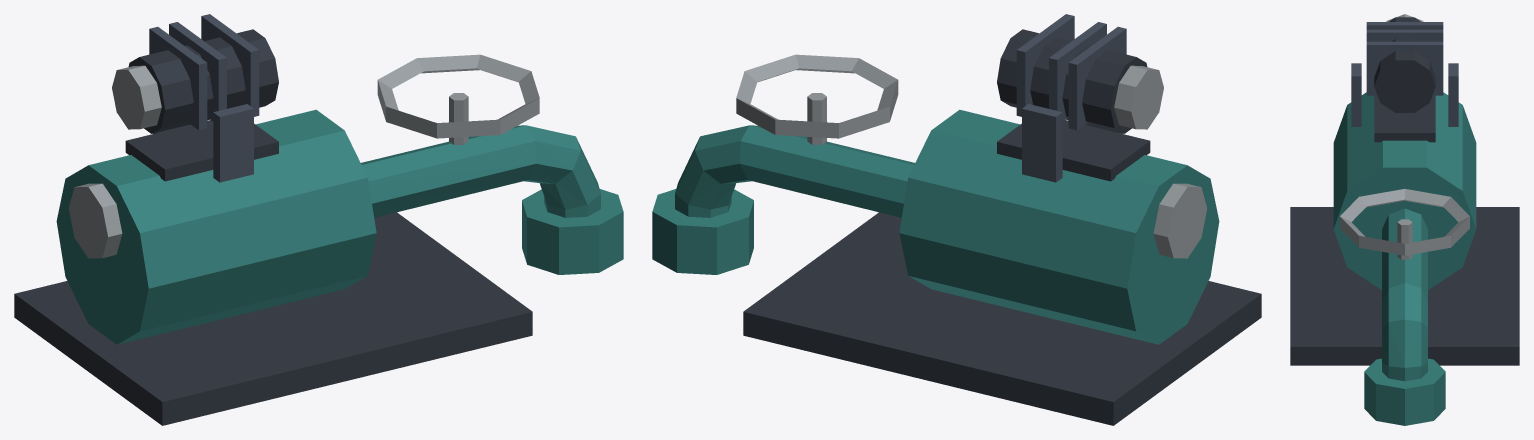
The model's file is offshore_pump.obj.
3 renders of one model, left to right at view 1: azimuth 30°, elevation 25°; view 2: azimuth 150°, elevation 25°; view 3: azimuth 270°, elevation 25°, orthographic. The views are drawn at different scales.
Visible parts, largest first — view 1: body, part; view 2: body, part; view 3: body, part.
Part boxes in pixels (bbox=[...]): body: bbox=[14, 54, 623, 425]; part: bbox=[112, 14, 278, 133]; body: bbox=[652, 54, 1261, 425]; part: bbox=[997, 14, 1163, 133]; body: bbox=[1290, 63, 1519, 425]; part: bbox=[1366, 14, 1443, 112].
Bounding box in the file's own units: 1.86 × 1.02 × 0.9.
